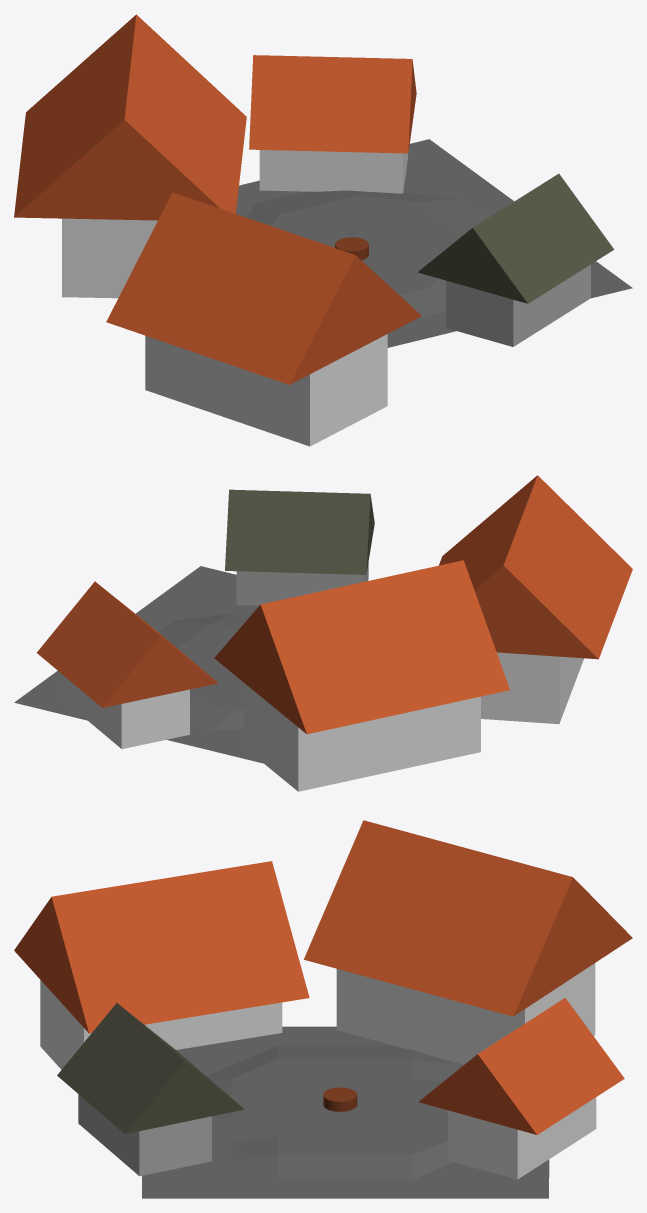
The model's file is building3.dae.
3 views of the same model, one above another, from view 1: azimuth 30°, elevation 25°; view 2: azimuth 150°, elevation 25°; view 3: azimuth 270°, elevation 25° (orthographic). The views are drawn at different scales.
Visible parts, largest first — view 1: Cube_131; view 2: Cube_131; view 3: Cube_131.
Boxes of the visible parts, bbox=[...] form: Cube_131: bbox=[14, 14, 632, 446]; Cube_131: bbox=[14, 475, 632, 791]; Cube_131: bbox=[14, 820, 632, 1198].
Bounding box in the file's own units: 1.62 × 1.81 × 0.6925.
